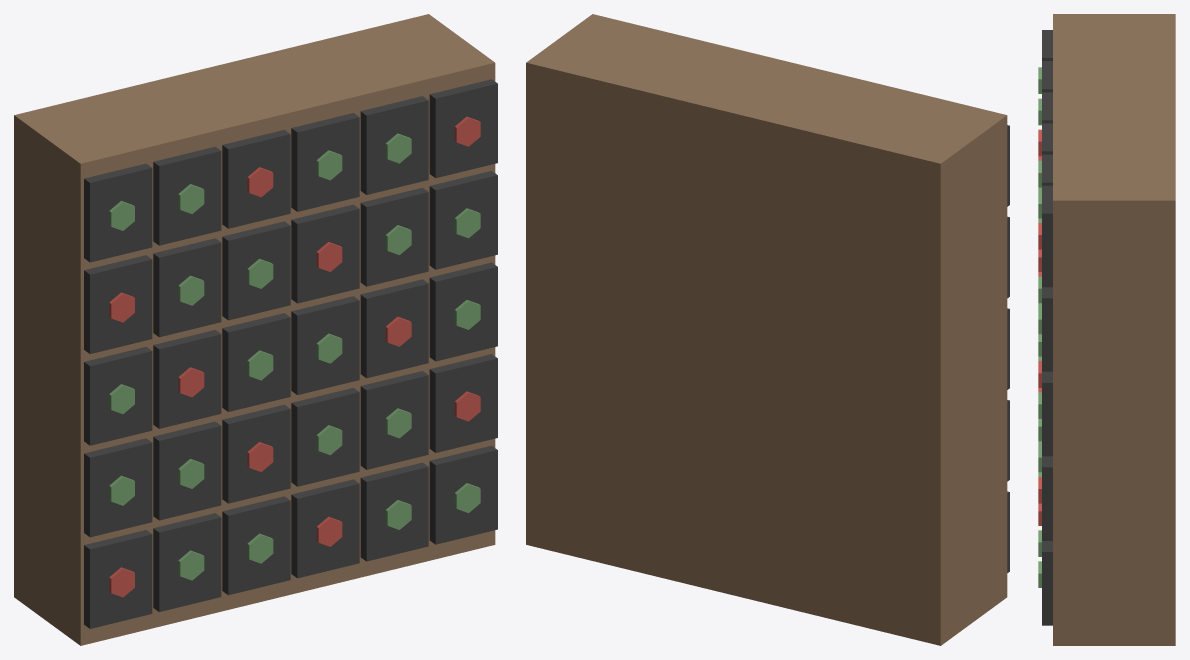
Rendered from wine_rack.glb.
The picture shows the model from 3 angles, left to right: view 1: azimuth 30°, elevation 25°; view 2: azimuth 150°, elevation 25°; view 3: azimuth 270°, elevation 25°; orthographic projection. The views are drawn at different scales.
Parts seen in each view (by area): view 1: wine_rack; view 2: wine_rack; view 3: wine_rack.
Boxes of the visible parts, x1=… form: wine_rack: x1=14, y1=14, x2=497, y2=645; wine_rack: x1=526, y1=14, x2=1009, y2=645; wine_rack: x1=1038, y1=14, x2=1175, y2=645.
Size of the model in its own units: 1.8 by 2 by 0.5599.
